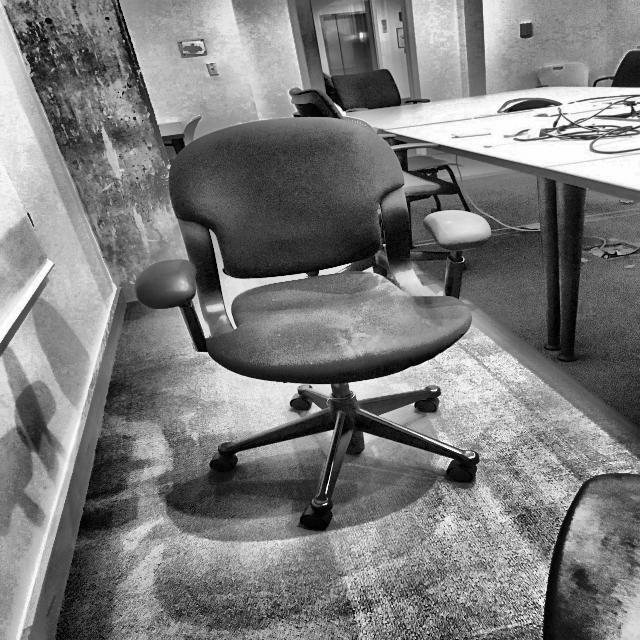chair: (136, 111, 500, 534)
